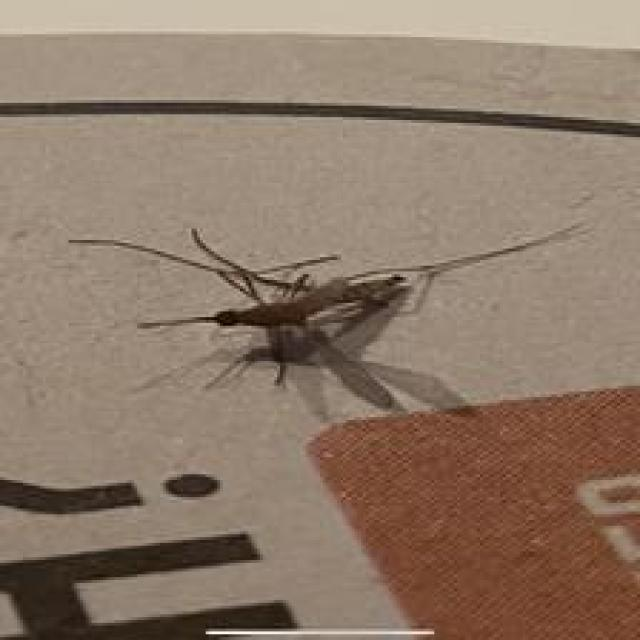Culex: (66, 216, 594, 424)
